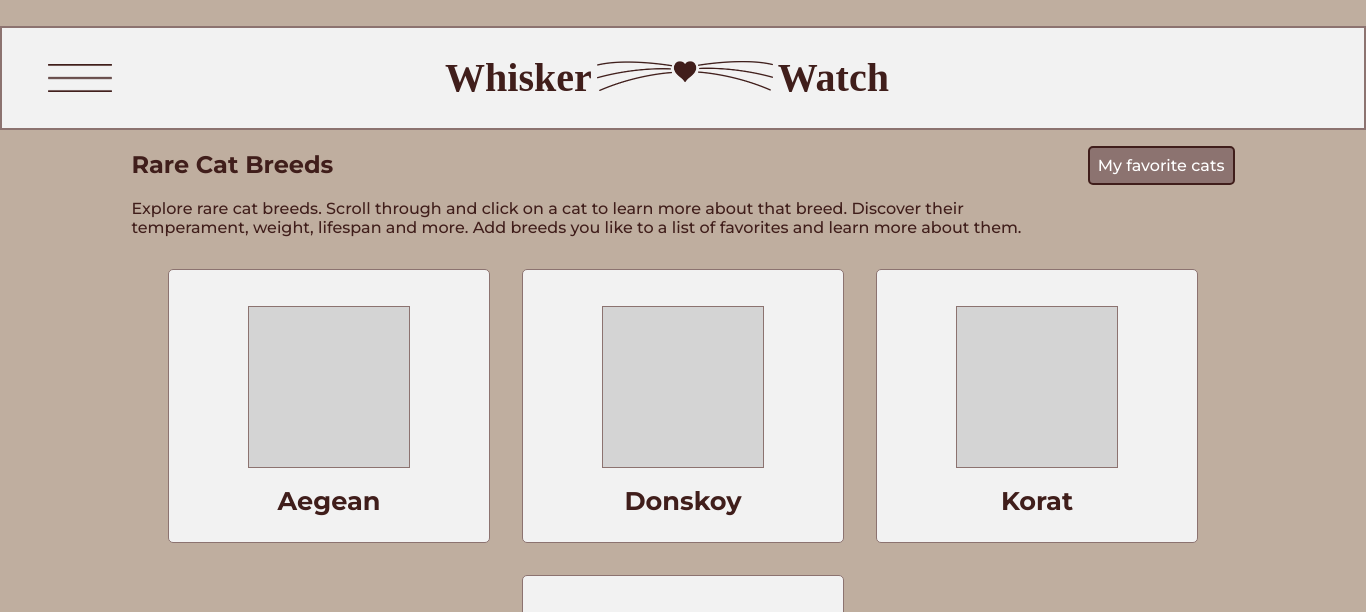
it: landing-page-spec › Should be able to navigate to favorites from the nav menu
Hover over the picture with class "menu-png" at [80, 78], box [16,32,144,124]
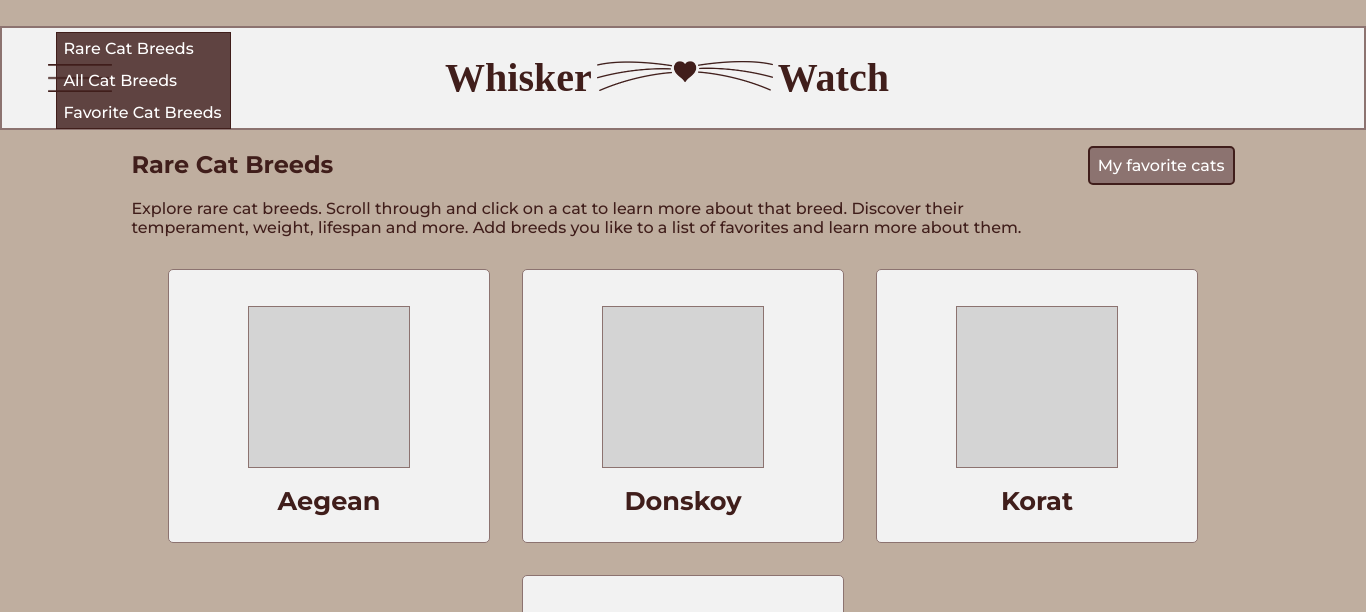
Now the link to "/favoriteCatbreeds" is shown
Click the link to "/favoriteCatbreeds" at [144, 113], box [57,97,230,129]
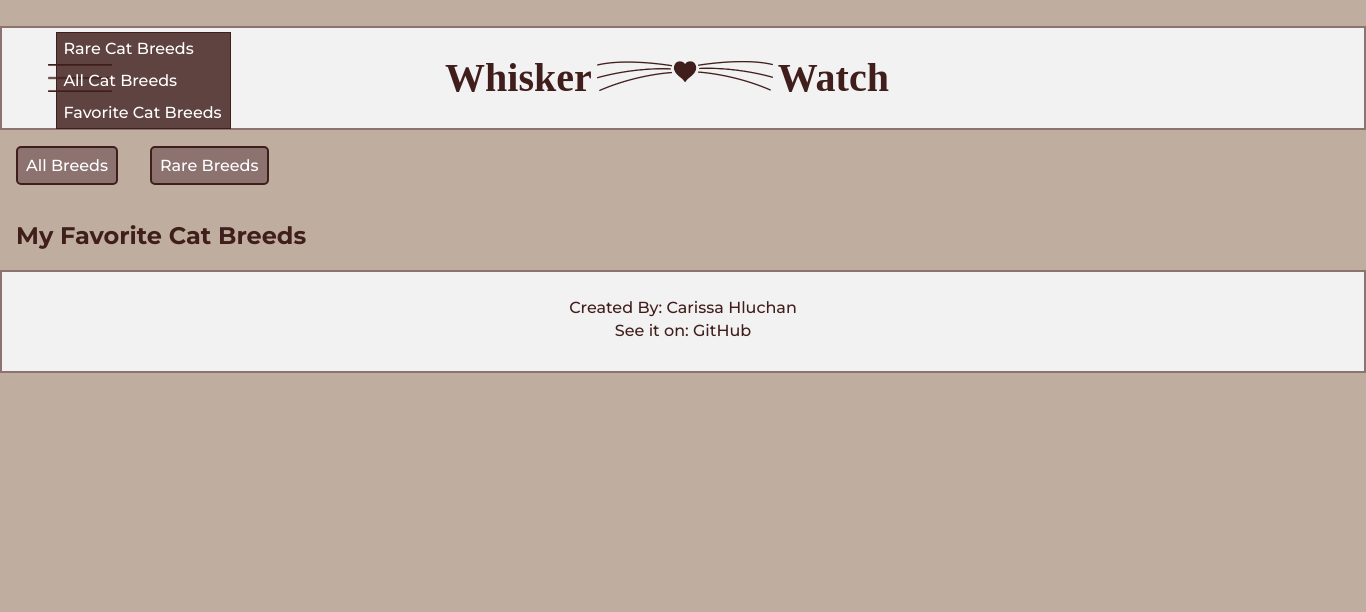
Now the element with class "favorite-cat-breed-main" is shown, box [16,146,306,250]
